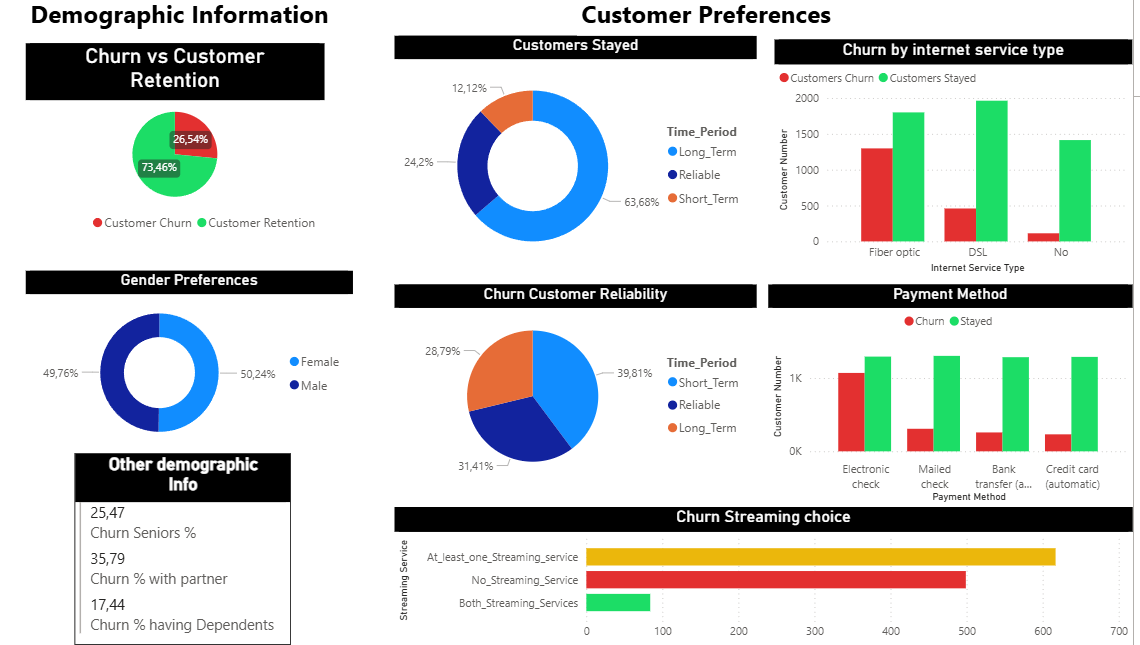

The dashboard page shown, as its layout file describes it:
{"tool":"powerbi","page":{"name":"Page 1","canvas":[1280,720],"ordinal":0},"visuals":[{"type":"pieChart","title":"Churn vs Customer Retention","fields":{"Y":["Sum(Total_Churn.Customer_churn)","Sum(Total_Stayed.Customers_Stayed)"]},"box":[65.2,56.4,327.8,215.9],"z":0},{"type":"donutChart","title":"Gender Preferences","fields":{"Y":["Sum(Female_Churn.Females_Churn)","Sum(Male_Churn.Males_Churn)"]},"box":[65.2,306.4,358.9,203.3],"z":1000},{"type":"multiRowCard","title":"Other demographic Info","fields":{"Values":["churns_are_Elders.Churn Seniors %","Churn_partners.Churn Partners %","Churns_with_Dependents.Churn Dependents %"]},"box":[118.7,506.7,237.3,210.1],"z":2000},{"type":"barChart","title":"Churn Streaming choice","fields":{"Category":["Churn_everyone_streaing_type.Streaming_Service"],"Y":["Sum(Churn_everyone_streaing_type.Number_of_Customers)"]},"box":[469.8,565.1,810.2,154.7],"z":3000},{"type":"clusteredColumnChart","title":"Churn by internet service type","fields":{"Category":["Churn_Internet_Type.Type_of_Service"],"Y":["Sum(Churn_Internet_Type.Number_of_Customers)","Sum(Stayed_Internet_Type.Number_of_Customers)"]},"box":[887.1,51.6,392.9,261.6],"z":4000},{"type":"pieChart","title":"Churn Customer Reliability ","fields":{"Category":["Churn_retention.Time_Period"],"Y":["Sum(Churn_retention.Customer_Number)"]},"box":[469.8,321,397.8,224.7],"z":5000},{"type":"clusteredColumnChart","title":"Payment Method ","fields":{"Category":["Churns_payment_method.Payment_Method"],"Y":["Sum(Churns_payment_method.Customer_Number)","Sum(Stayed_Payment_Method.Customer_Number)"]},"box":[880.2,321,399.8,244.1],"z":6000},{"type":"donutChart","title":"Customers Stayed ","fields":{"Category":["Stayed_retention.Time_Period"],"Y":["Sum(Stayed_retention.Customer_Number)"]},"box":[469.8,47.7,397.8,265.5],"z":7000},{"type":"textbox","box":[65.2,0,358.9,47.7],"z":8000},{"type":"textbox","box":[669.2,0,358.9,47.7],"z":9000}]}

Visuals, with their boxes in screenshot pixels (x1, y1, x2, y2), scaled from the page's 1280x720 canvas onto the 1140x645 screenshot:
"Churn vs Customer Retention" pieChart: BBox(58, 51, 350, 244)
"Gender Preferences" donutChart: BBox(58, 274, 378, 457)
"Other demographic Info" multiRowCard: BBox(106, 454, 317, 642)
"Churn Streaming choice" barChart: BBox(418, 506, 1139, 644)
"Churn by internet service type" clusteredColumnChart: BBox(790, 46, 1139, 281)
"Churn Customer Reliability " pieChart: BBox(418, 288, 773, 489)
"Payment Method " clusteredColumnChart: BBox(784, 288, 1139, 506)
"Customers Stayed " donutChart: BBox(418, 43, 773, 281)
textbox: BBox(58, 0, 378, 43)
textbox: BBox(596, 0, 916, 43)
